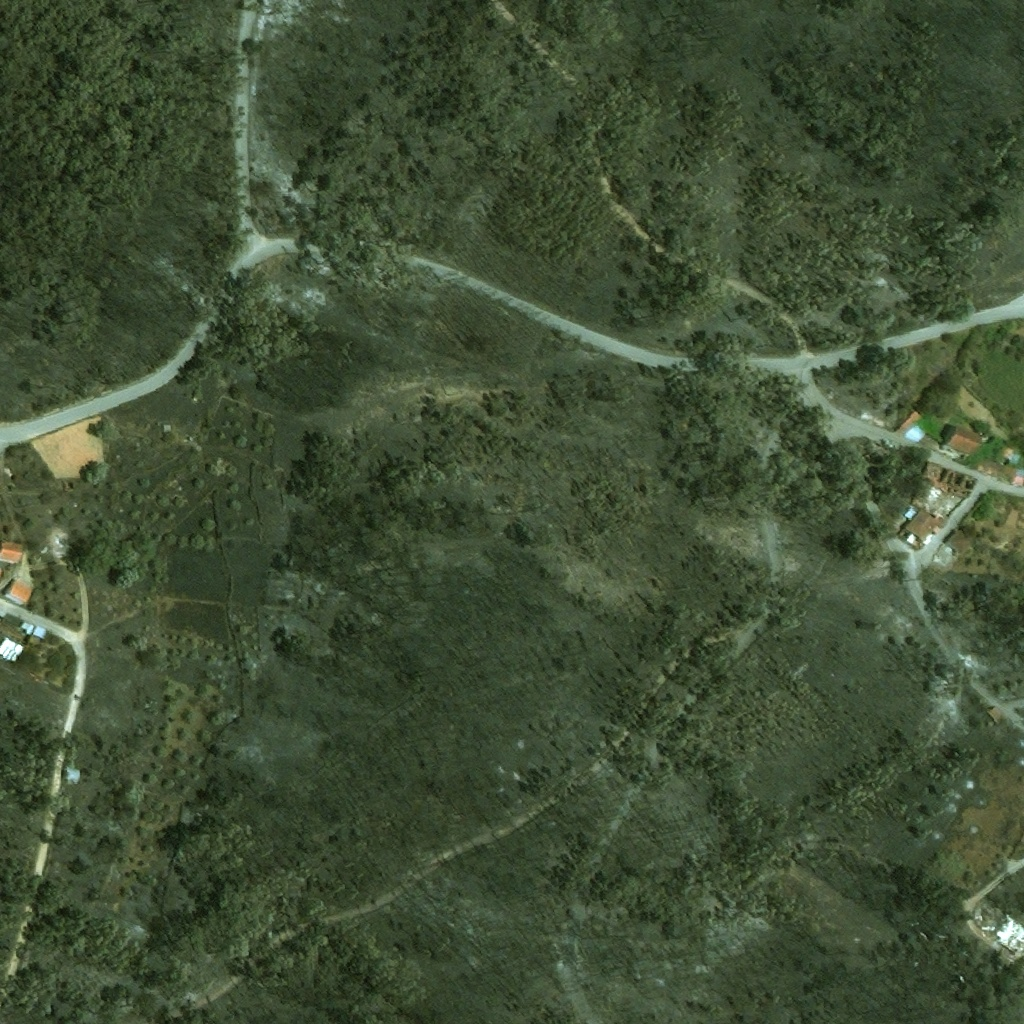0 no-damage: (895, 492, 954, 550), (943, 425, 987, 459), (893, 410, 926, 444), (2, 577, 36, 608), (944, 527, 974, 555), (0, 539, 25, 562)
1 minor-damage: (67, 767, 82, 783)
2 major-damage: (0, 607, 48, 664)
3 destroyed: (916, 460, 979, 499), (997, 911, 1023, 955), (976, 892, 1010, 925)
4 un-classified: (975, 456, 1012, 483), (860, 449, 879, 467), (998, 442, 1015, 460), (1008, 468, 1023, 487)
